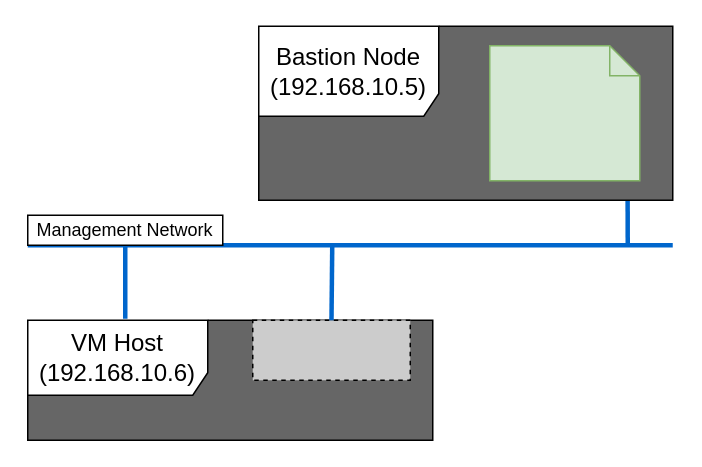
Image size: 702x467. Some labels were removed from this diagram. Here are the shapes that lost their labels. From the top down, the centre of each, then its label:
(564,112): Crucible Playbooks
(330,349): eno2 (192.168.10.7)
